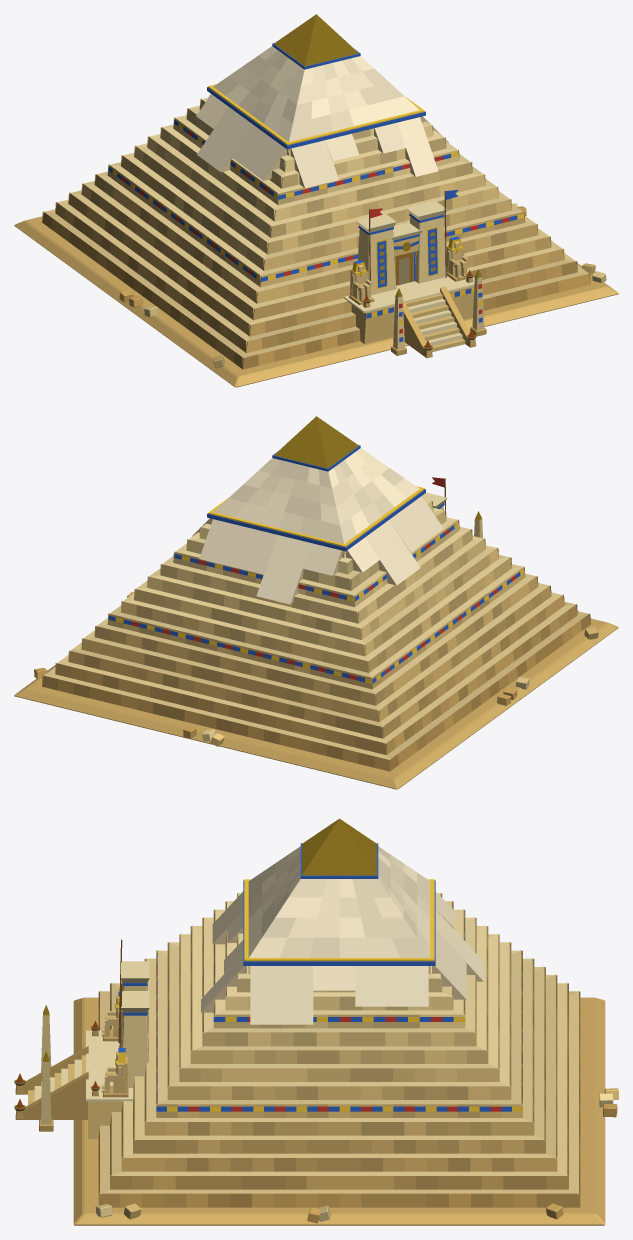
3 views of the same model, one above another, from view 1: azimuth 30°, elevation 25°; view 2: azimuth 150°, elevation 25°; view 3: azimuth 270°, elevation 25° (orthographic). The views are drawn at different scales.
Visible parts, largest first — view 1: pyramid; view 2: pyramid; view 3: pyramid.
Part boxes in pixels (left/top/right/bottom): pyramid: left=14, top=14, right=618, bottom=387; pyramid: left=14, top=416, right=618, bottom=789; pyramid: left=14, top=818, right=618, bottom=1225.
Size of the model in its own units: 104 by 62.1 by 116.
2 materials, 2 textured.
